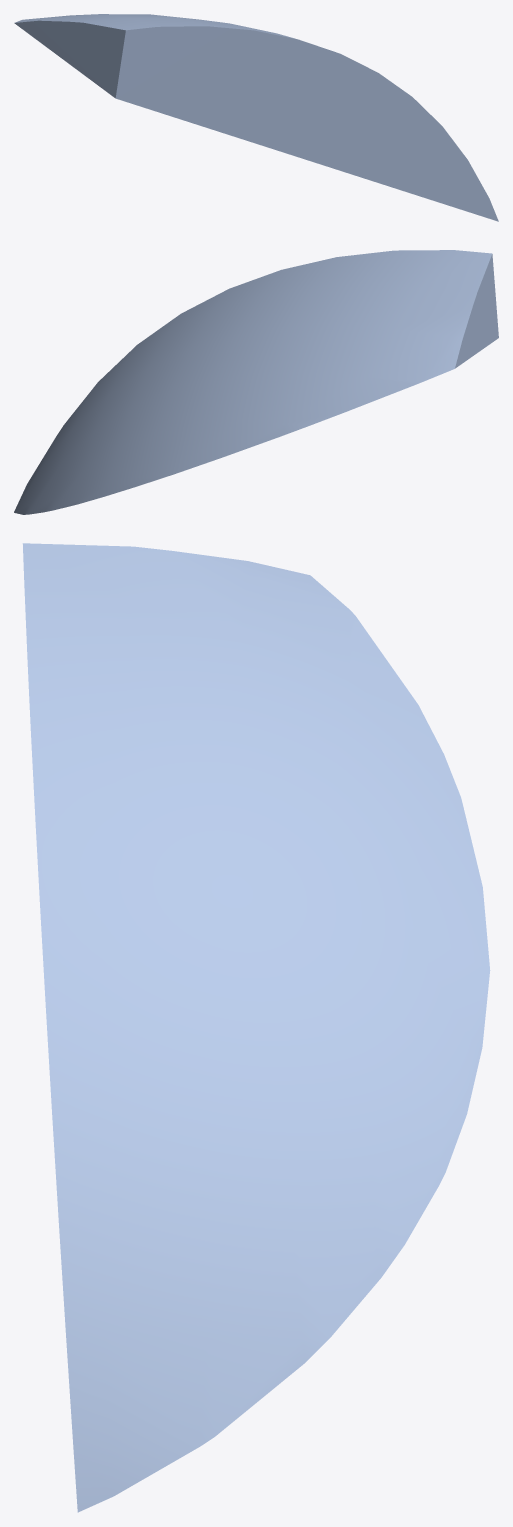
File: Ball3_3.fbx
3 renders of one model, top to bottom at view 1: azimuth 30°, elevation 25°; view 2: azimuth 150°, elevation 25°; view 3: azimuth 270°, elevation 25°, orthographic. The views are drawn at different scales.
Parts seen in each view (by area): view 1: Cube_cell.050; view 2: Cube_cell.050; view 3: Cube_cell.050.
Boxes of the visible parts, x1,y1,x2,y2 form: Cube_cell.050: (14,14,498,221); Cube_cell.050: (14,250,498,514); Cube_cell.050: (22,543,490,1512).
Size of the model in its own units: 69.33 by 45.94 by 32.88.
